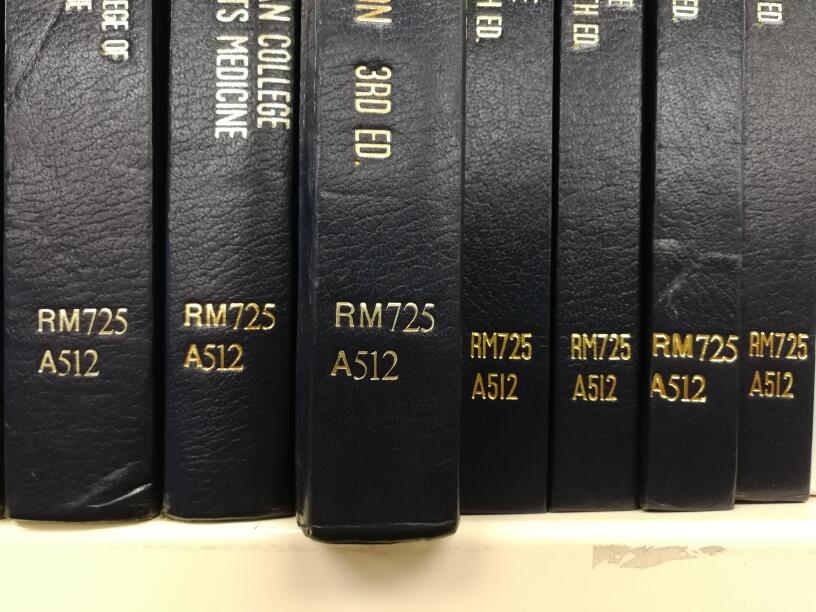booklabel: (326, 297, 439, 386), (33, 304, 132, 382), (179, 299, 280, 375), (646, 329, 742, 408), (466, 328, 538, 407), (566, 329, 634, 406), (745, 326, 813, 403)
